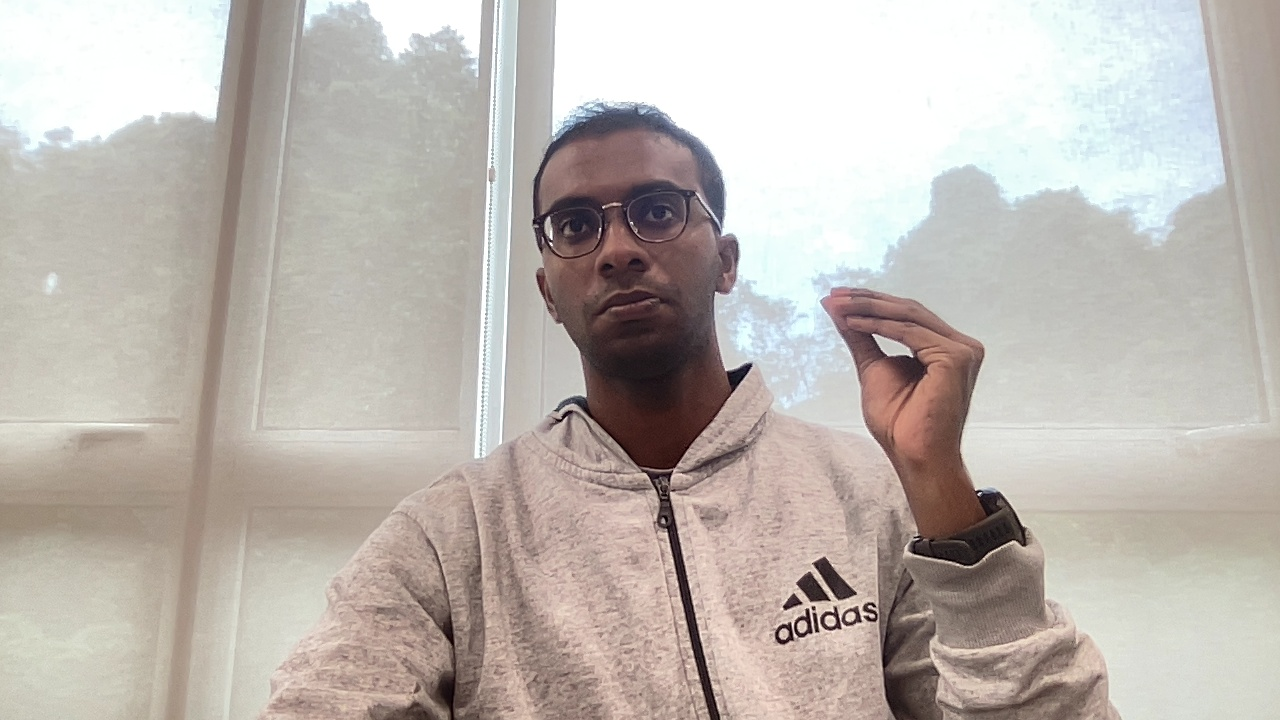eat: (818, 280, 990, 494)
